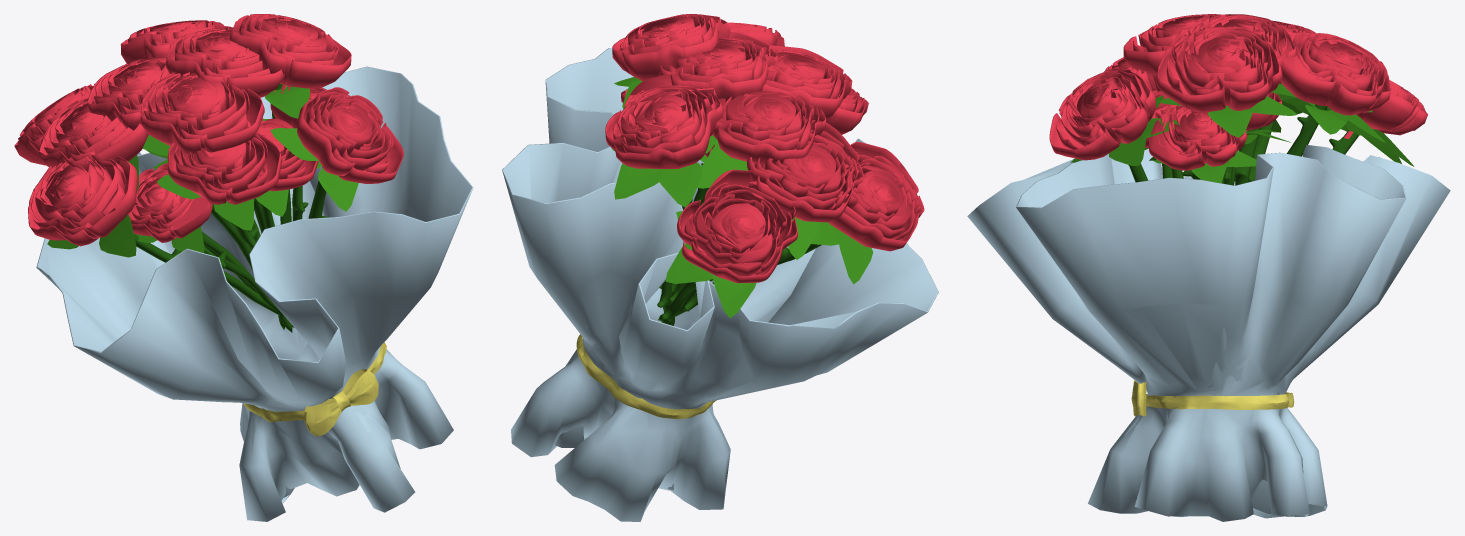
File: bouquet.fbx
3 renders of one model, left to right at view 1: azimuth 30°, elevation 25°; view 2: azimuth 150°, elevation 25°; view 3: azimuth 270°, elevation 25°, orthographic.
Visible parts, largest first — view 1: Cube.001; view 2: Cube.001; view 3: Cube.001.
Part boxes in pixels (x1,y1,x2,y2): Cube.001: (14,14,473,521); Cube.001: (502,14,938,521); Cube.001: (967,14,1450,521).
Size of the model in its own units: 1602 by 1977 by 1822.
